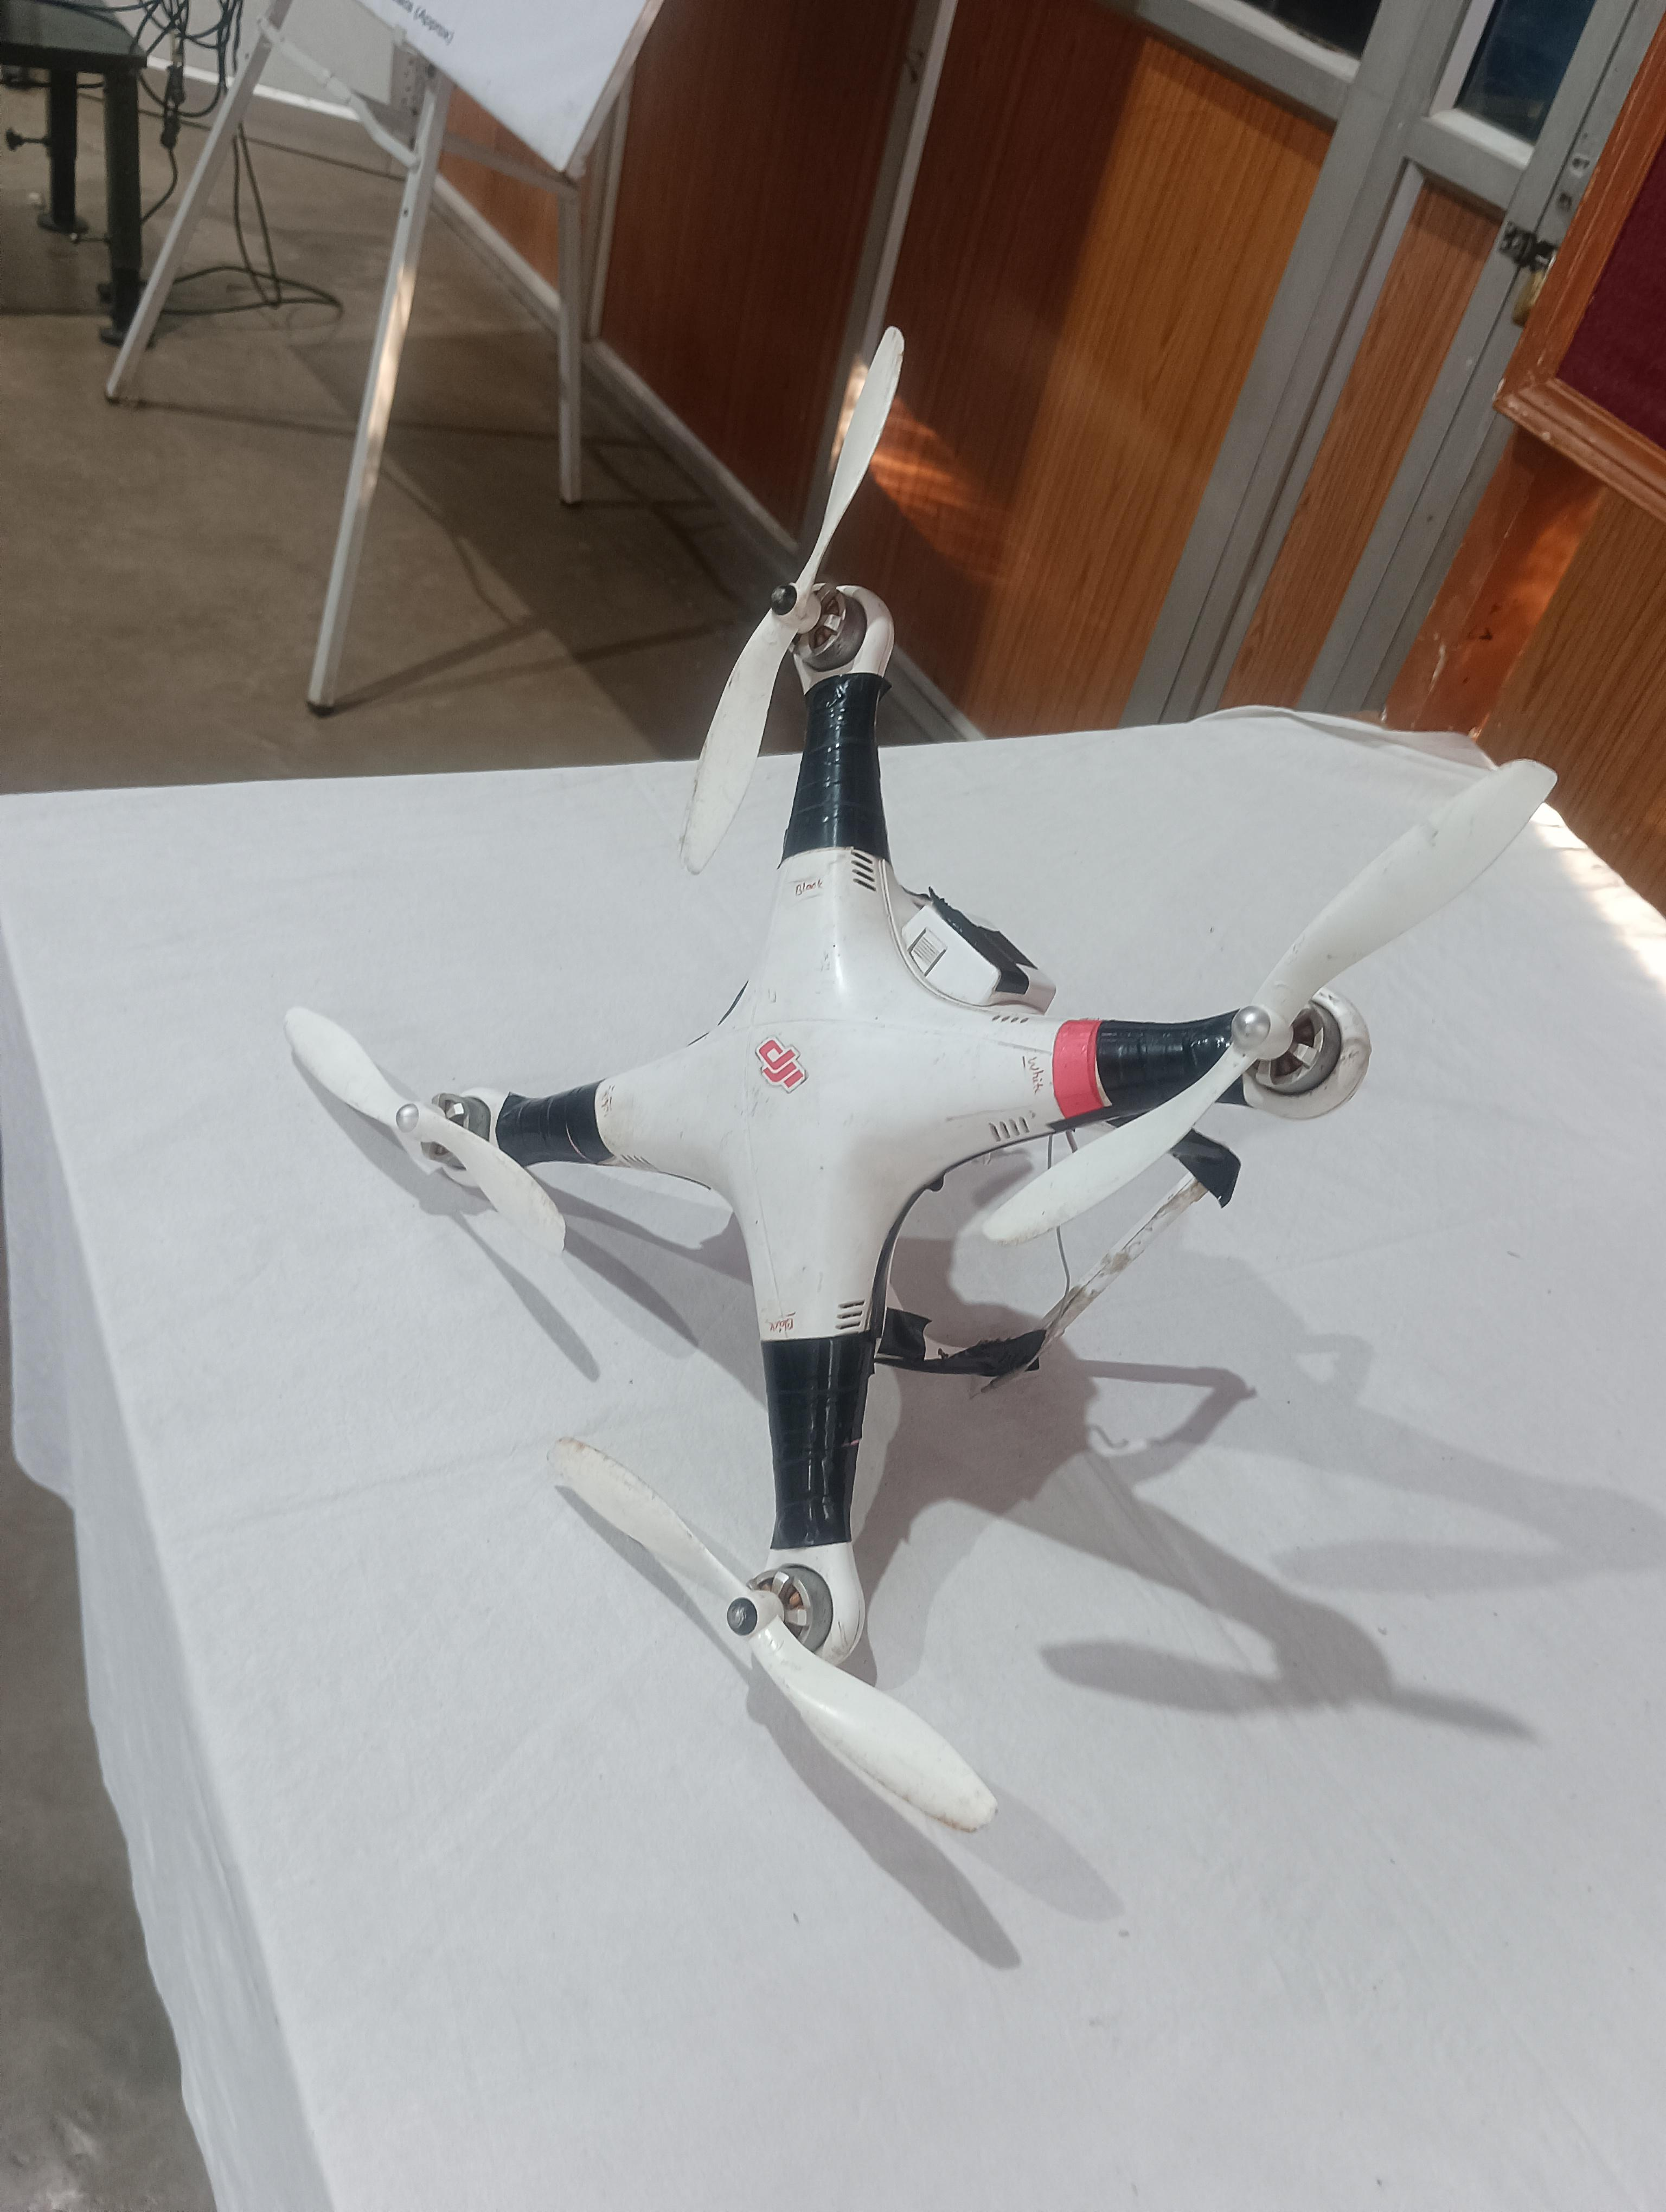drone: (219, 299, 1598, 1920)
